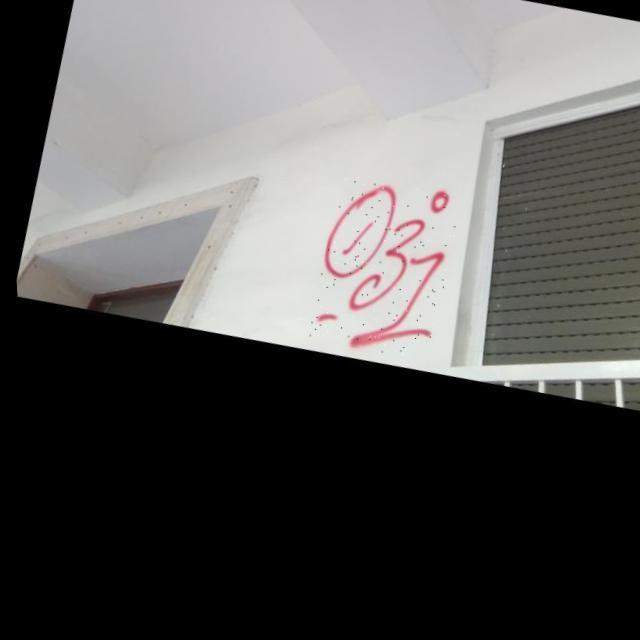-: (296, 173, 467, 375)
